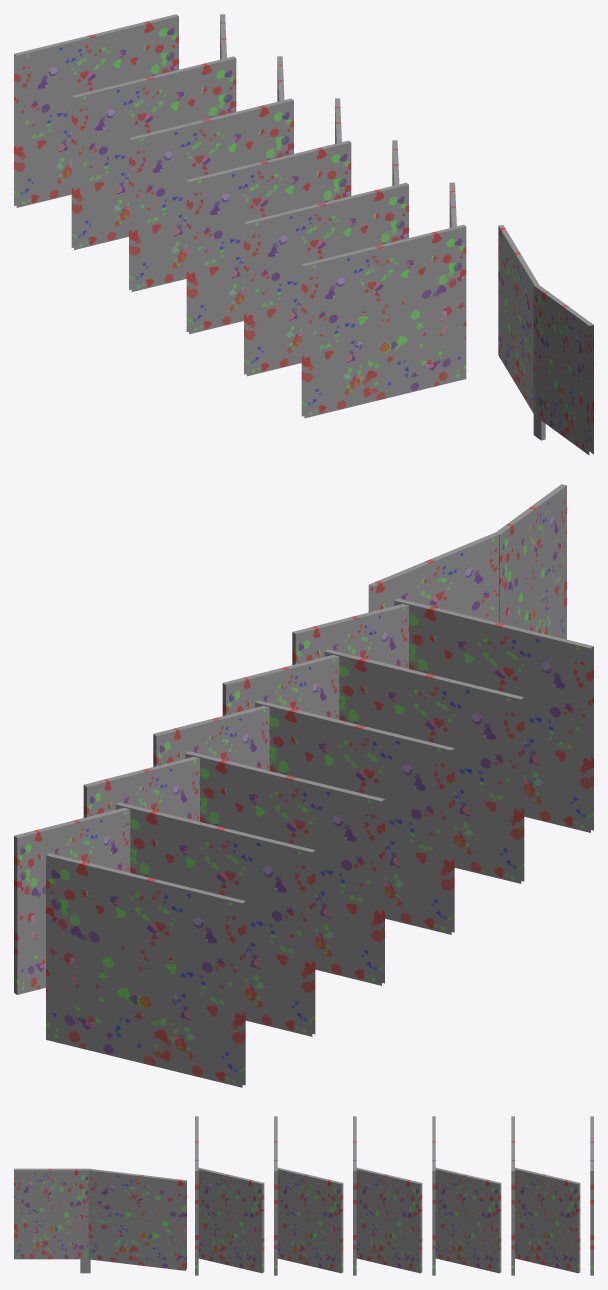
Rendered from bathroomStalls.fbx.
The picture shows the model from 3 angles, top to bottom: view 1: azimuth 30°, elevation 25°; view 2: azimuth 150°, elevation 25°; view 3: azimuth 270°, elevation 25°; orthographic projection. The views are drawn at different scales.
Parts seen in each view (by area): view 1: stallsDividers, stallsBig, stallsDoors; view 2: stallsDividers, stallsDoors, stallsBig; view 3: stallsDoors, stallsBig, stallsDividers.
Boxes of the visible parts, x1,y1,x2,y2 form: stallsDividers: (14,14,466,418); stallsBig: (498,225,593,455); stallsDoors: (220,14,456,227); stallsDividers: (46,598,593,1087); stallsDoors: (14,604,408,994); stallsBig: (368,484,566,639); stallsDoors: (198,1167,580,1273); stallsBig: (14,1168,186,1273); stallsDividers: (195,1116,593,1275).
Bounding box in the file's own units: 883 × 643 × 3226.
